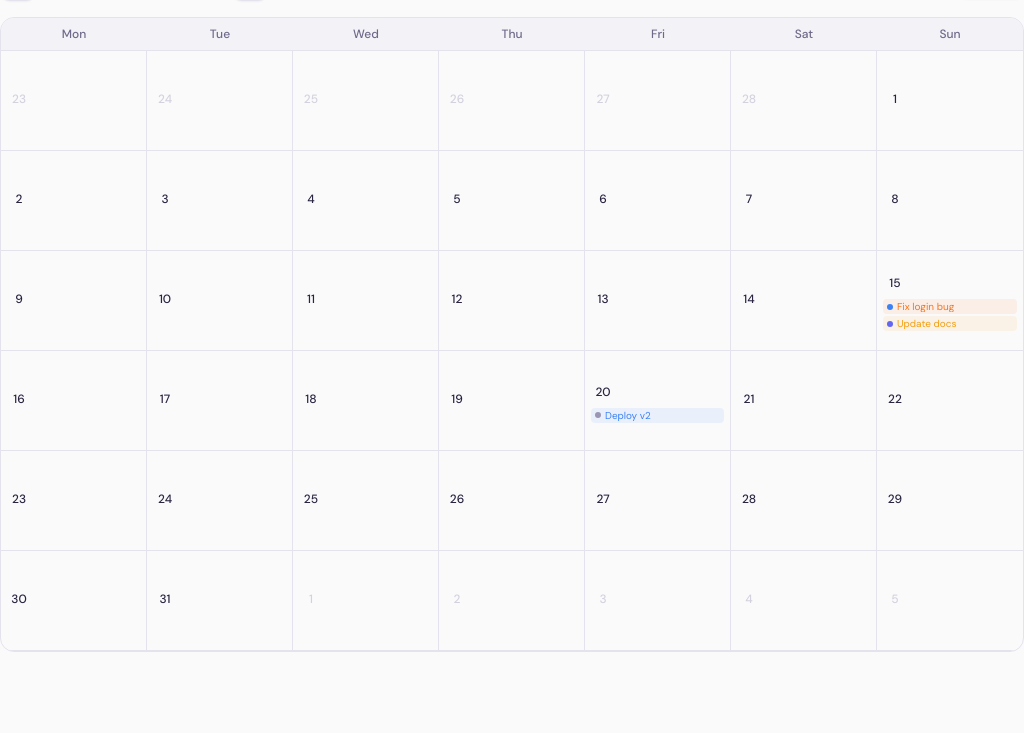
Test: TicketCalendar › shows empty message when clicking a date with no tickets
This screenshot has width=1024, height=733.
What coordinates should you click on to do the following:
click the button with test id "calendar-day-2026-03-01"
I would click on:
 (950, 101)
Its box is 877,51 -> 1023,151.
(page scrolled)
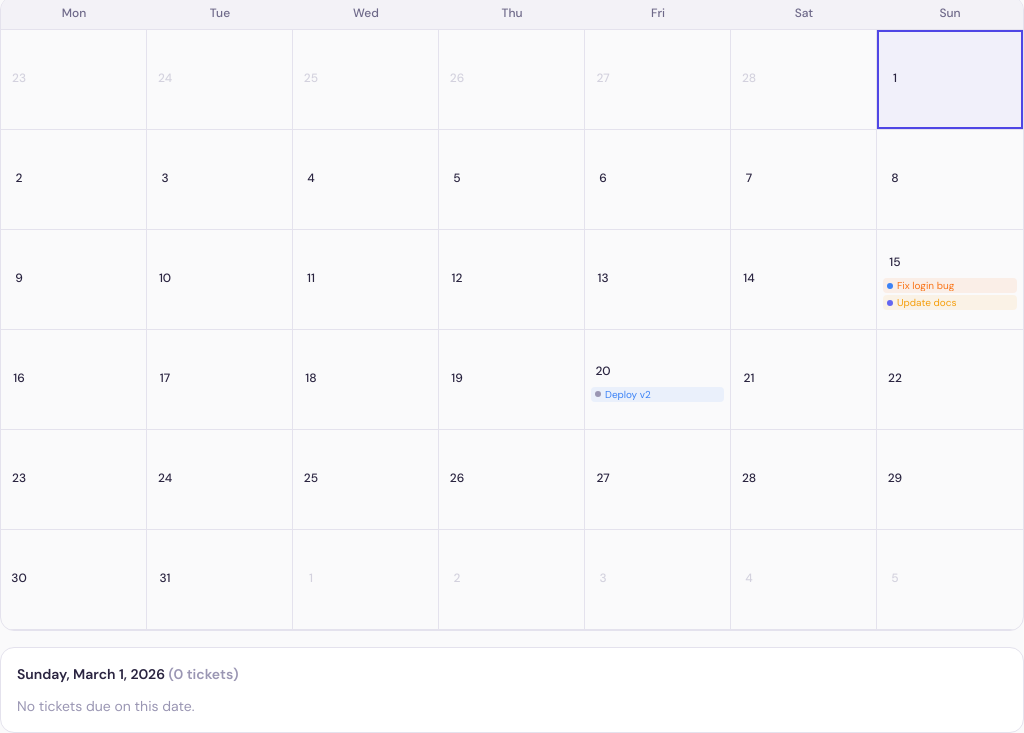
Result: the text "No tickets due on this date." is shown at 17,697 -> 194,715
